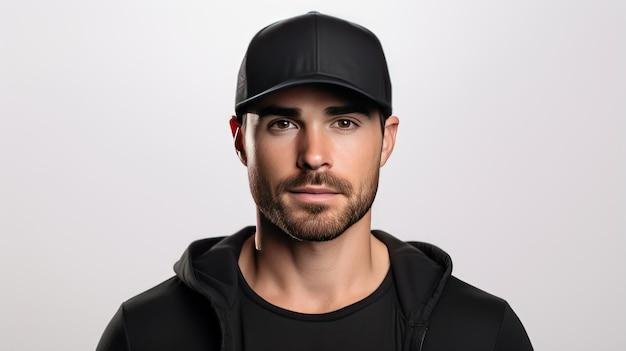cap: (226, 9, 400, 116)
